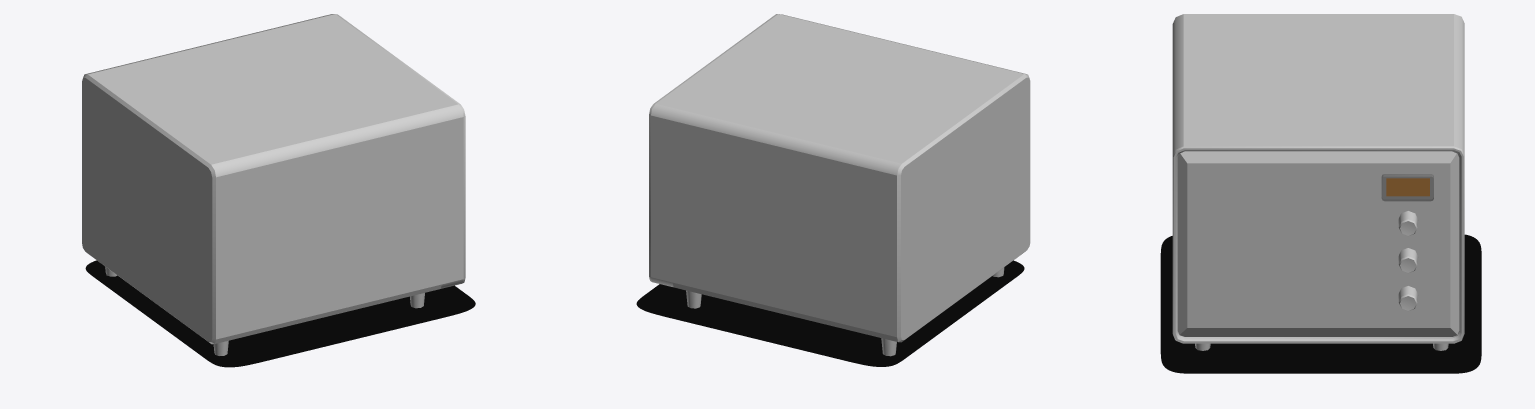
Rendered from speaker.fbx.
3 views of the same model, side by side, from view 1: azimuth 30°, elevation 25°; view 2: azimuth 150°, elevation 25°; view 3: azimuth 270°, elevation 25° (orthographic). The views are drawn at different scales.
Visible parts, largest first — view 1: speaker, speaker_shadow; view 2: speaker, speaker_shadow; view 3: speaker, speaker_shadow, speaker_light.
Boxes of the visible parts, left/top/right/bottom form: speaker: left=82, top=14, right=465, bottom=355; speaker_shadow: left=85, top=260, right=475, bottom=367; speaker: left=649, top=14, right=1030, bottom=356; speaker_shadow: left=636, top=260, right=1024, bottom=366; speaker: left=1172, top=14, right=1464, bottom=350; speaker_shadow: left=1160, top=234, right=1481, bottom=373; speaker_light: left=1386, top=178, right=1429, bottom=196.
Size of the model in its own units: 44.75 by 24.79 by 40.64.
